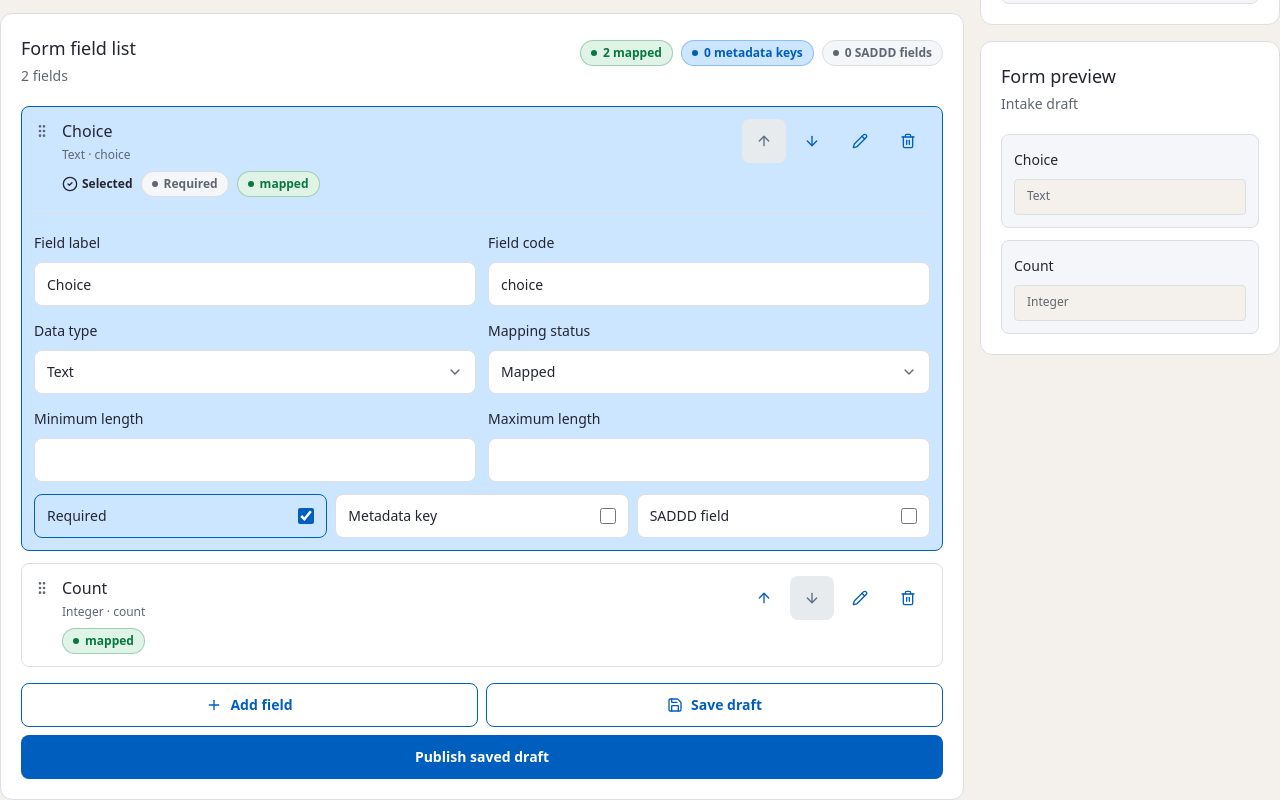
Test: collection publish › publishes the opened draft at its revision, reports it and returns to the Forms list
This screenshot has width=1280, height=800.
(page scrolled)
Click the button "Publish saved draft" at (482, 757), box [21, 735, 943, 779]
(page scrolled)
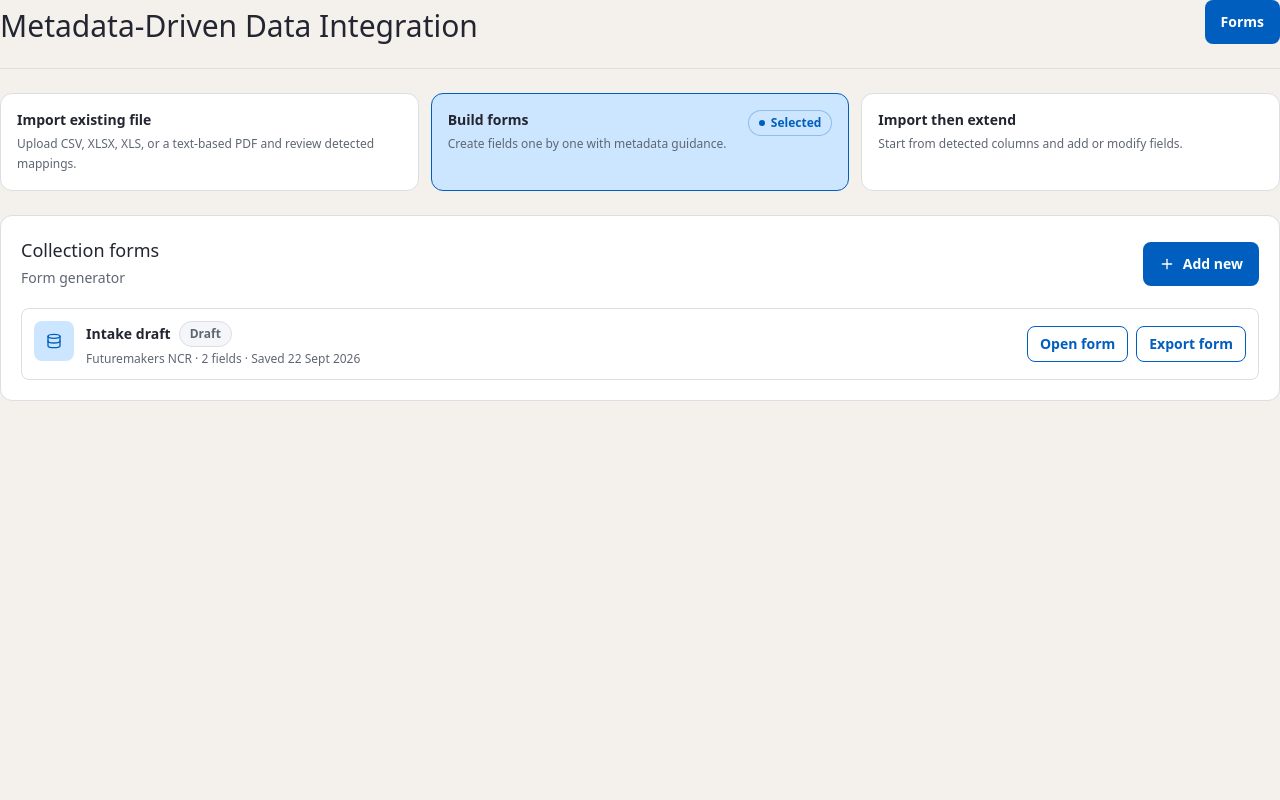
Result: the button "Open form" is shown at [1027, 326, 1128, 362]
Result: the button "Publish saved draft" is gone
